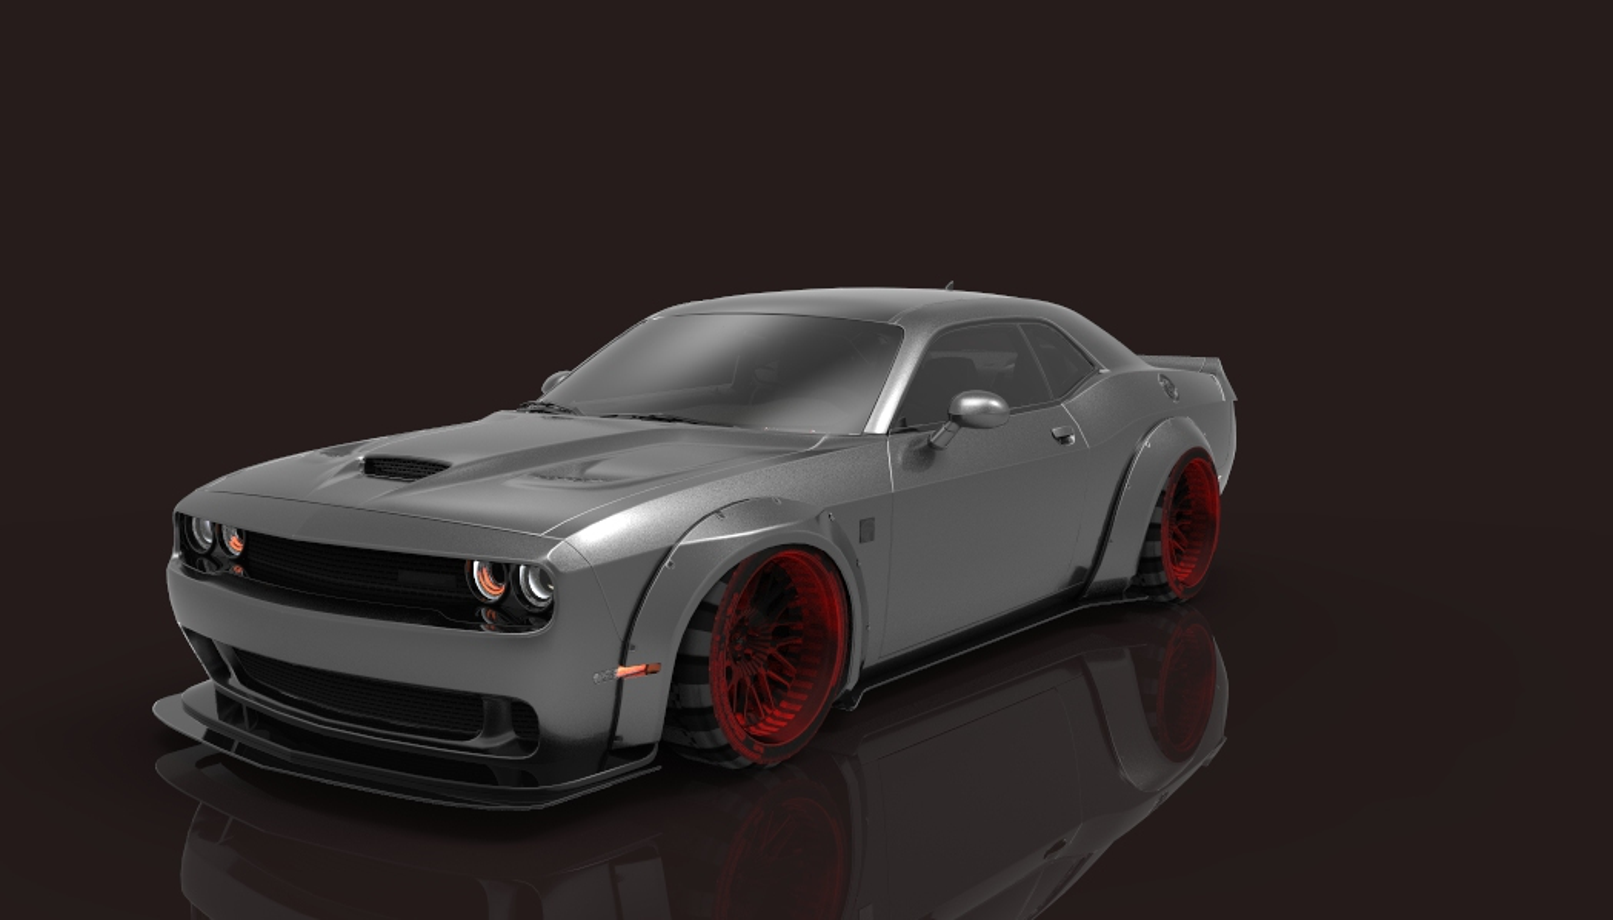hatch: (1153, 369, 1181, 402)
